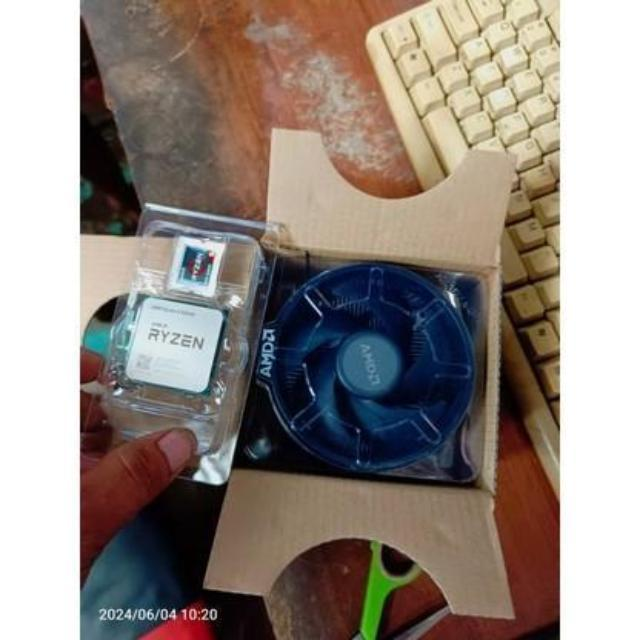CPU: (120, 298, 218, 404)
CPU_Fan: (258, 254, 470, 489)
